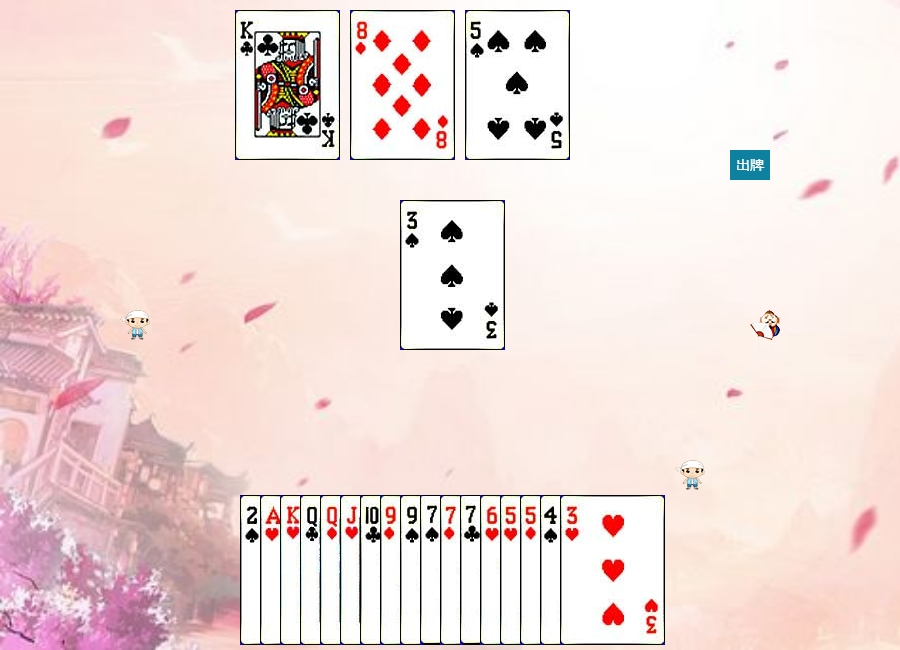10~2: (360, 495, 465, 645)
11~3: (340, 495, 445, 645)
12~1: (320, 495, 425, 645)
12~2: (300, 495, 405, 645)
13~2: (235, 10, 340, 160)
13~3: (280, 495, 385, 645)
14~3: (260, 495, 365, 645)
15~4: (240, 495, 345, 645)
3~3: (560, 495, 665, 645)
3~4: (400, 200, 505, 350)
4~4: (540, 495, 645, 645)
5~1: (520, 495, 625, 645)
5~3: (500, 495, 605, 645)
5~4: (465, 10, 570, 160)
6~3: (480, 495, 585, 645)
7~1: (440, 495, 545, 645)
7~2: (460, 495, 565, 645)
7~4: (420, 495, 525, 645)
8~1: (350, 10, 455, 160)
9~1: (380, 495, 485, 645)
9~4: (400, 495, 505, 645)
